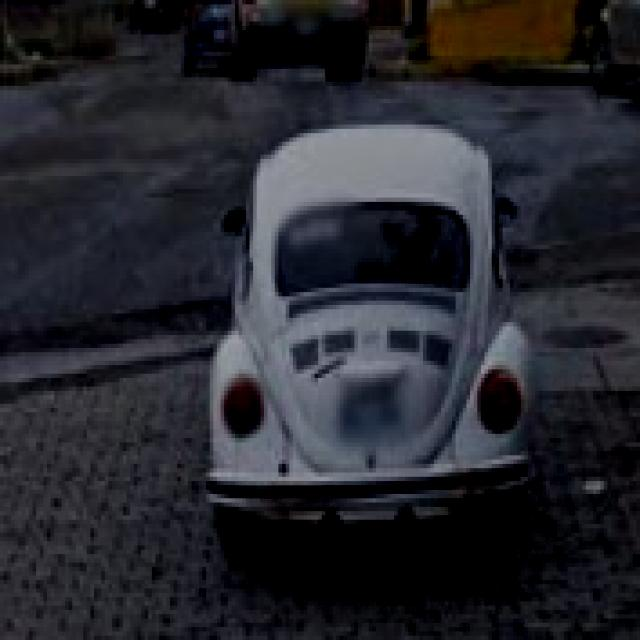car: (213, 127, 543, 567)
